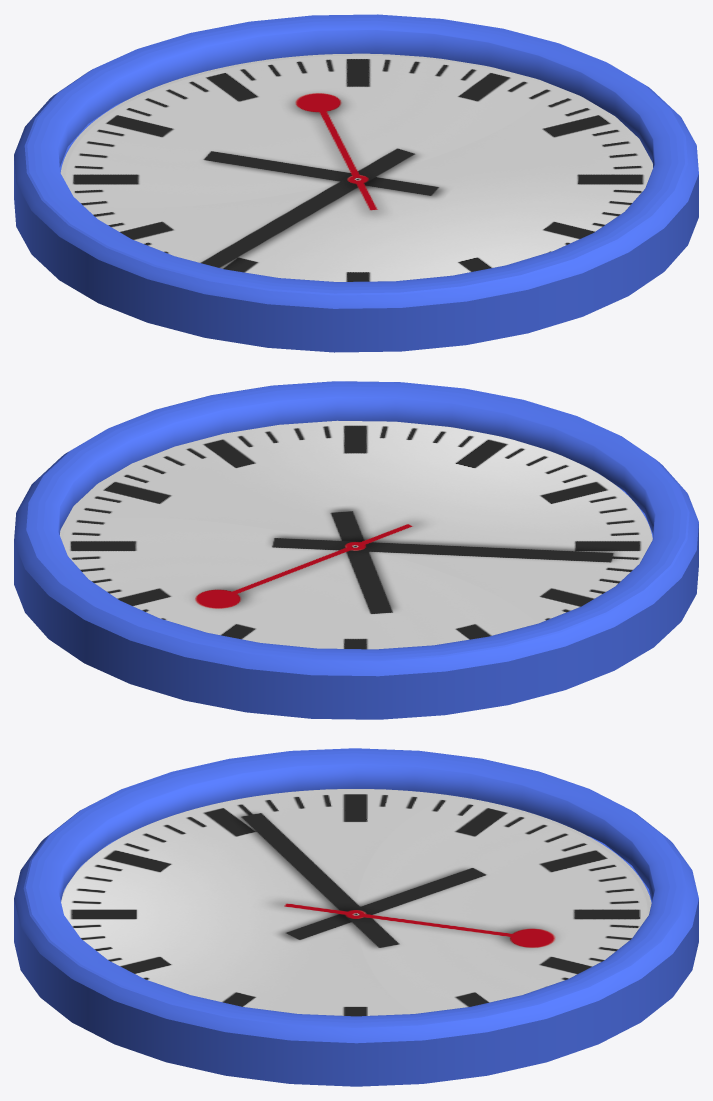
File: horlogeBleu1.fbx
3 views of the same model, one above another, from view 1: azimuth 30°, elevation 25°; view 2: azimuth 150°, elevation 25°; view 3: azimuth 270°, elevation 25° (orthographic).
Visible parts, largest first — view 1: Cylinder; view 2: Cylinder; view 3: Cylinder.
Boxes of the visible parts, x1,y1,x2,y2 form: Cylinder: (14, 14, 698, 352); Cylinder: (14, 381, 698, 719); Cylinder: (14, 748, 698, 1086).
Size of the model in its own units: 1.02 by 0.09 by 1.02.
2 materials, 1 textured.
